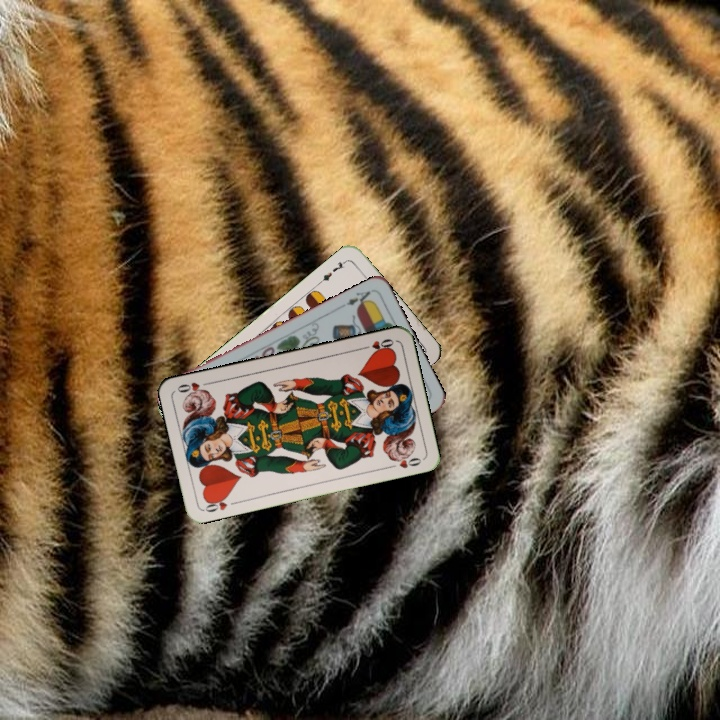E7: (315, 256, 349, 286)
EA: (342, 287, 374, 310)
HO: (200, 492, 240, 515), (357, 335, 397, 355)
